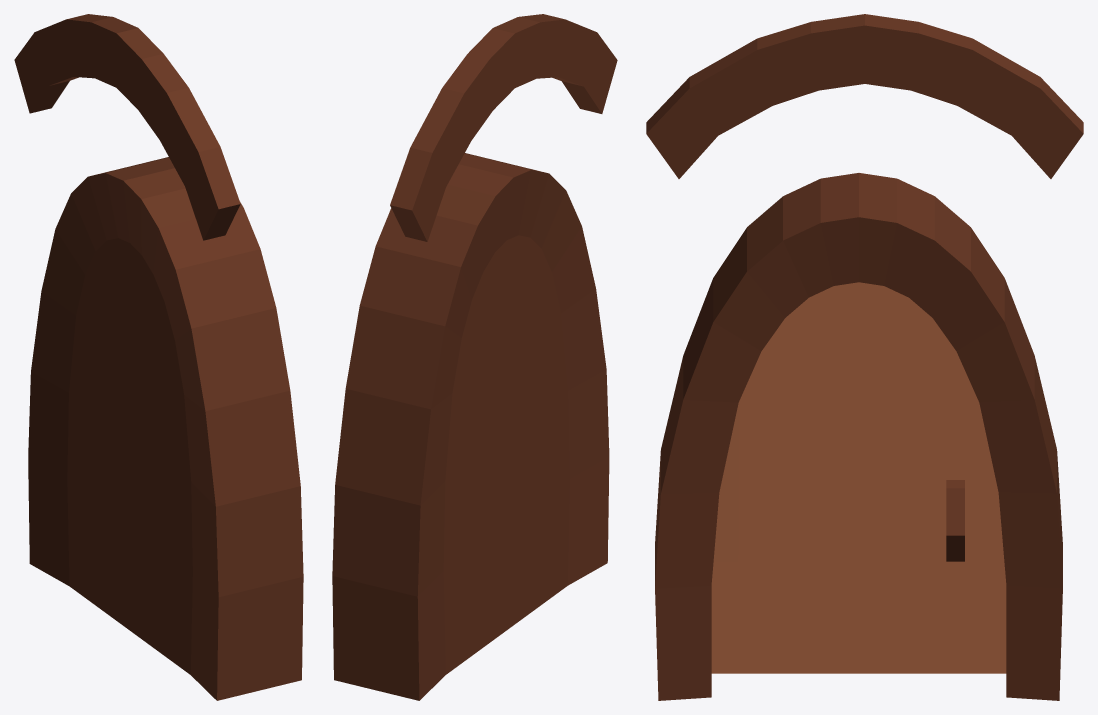
The model's file is door_asset.fbx.
3 renders of one model, left to right at view 1: azimuth 30°, elevation 25°; view 2: azimuth 150°, elevation 25°; view 3: azimuth 270°, elevation 25°, orthographic. The views are drawn at different scales.
Parts seen in each view (by area): view 1: Plane.129; view 2: Plane.129; view 3: Plane.129.
Boxes of the visible parts, <box> form: Plane.129: <box>14,14,303,700</box>; Plane.129: <box>332,14,617,700</box>; Plane.129: <box>646,14,1083,700</box>.
Bounding box in the file's own units: 31.8 × 204 × 126.
Materials: 2 (2 with a texture image).
